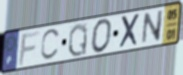C: (39, 27, 62, 62)
F: (18, 29, 42, 67)
N: (140, 9, 165, 47)
O: (90, 17, 114, 55)
Q: (67, 21, 89, 58)
X: (118, 12, 142, 51)
